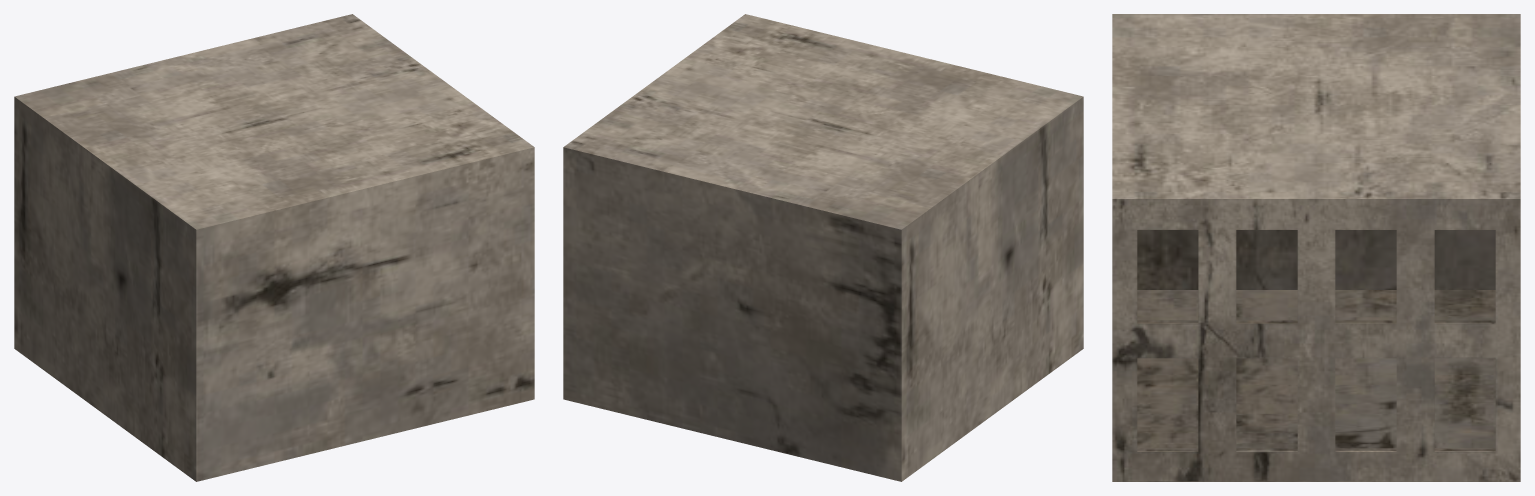
File: bld_a.glb
3 views of the same model, side by side, from view 1: azimuth 30°, elevation 25°; view 2: azimuth 150°, elevation 25°; view 3: azimuth 270°, elevation 25° (orthographic). The views are drawn at different scales.
Visible parts, largest first — view 1: Building_01_Building_001_0; view 2: Building_01_Building_001_0; view 3: Building_01_Building_001_0.
Part boxes in pixels (box(x1,y1,x2,y2)): Building_01_Building_001_0: box(14, 14, 534, 481); Building_01_Building_001_0: box(563, 14, 1083, 481); Building_01_Building_001_0: box(1112, 14, 1520, 481).
Bounding box in the file's own units: 9 × 6.41 × 8.39.
Materials: 1 (1 with a texture image).
